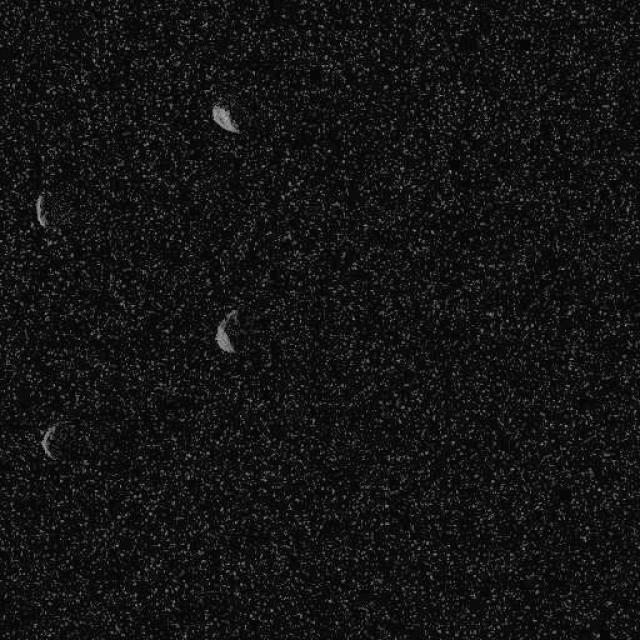D2: (39, 418, 79, 462), (214, 307, 240, 353), (210, 104, 241, 134), (32, 190, 52, 230)
